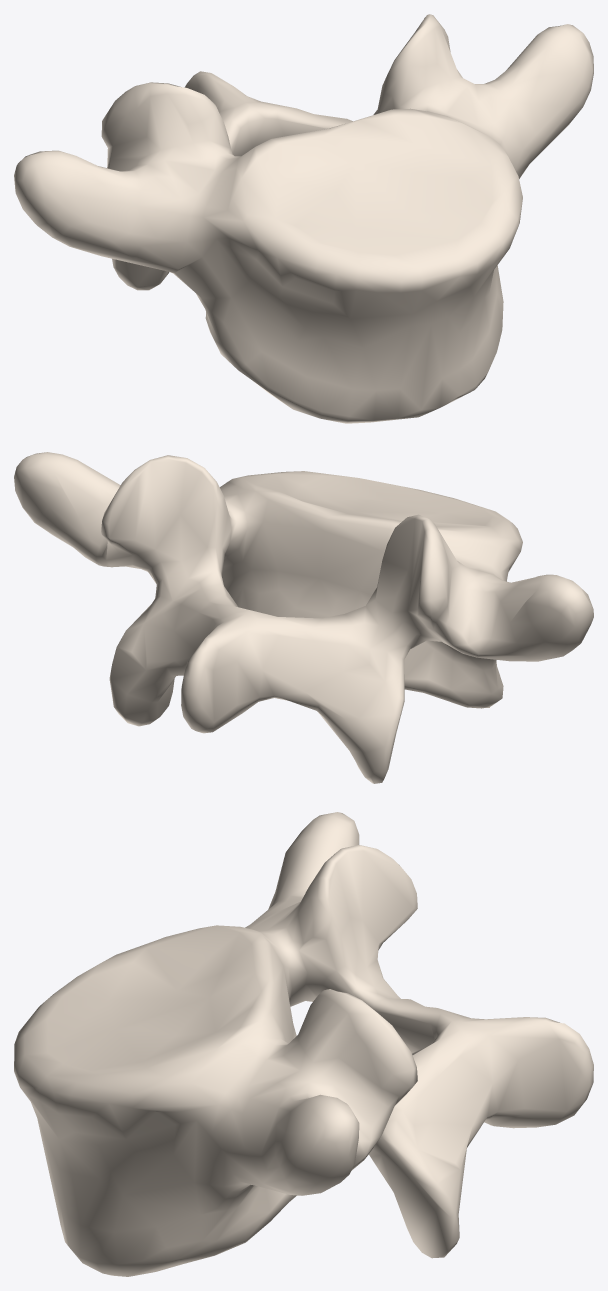
3 renders of one model, top to bottom at view 1: azimuth 30°, elevation 25°; view 2: azimuth 150°, elevation 25°; view 3: azimuth 270°, elevation 25°, orthographic. The views are drawn at different scales.
Visible parts, largest first — view 1: Lumbar vertebrae (L5); view 2: Lumbar vertebrae (L5); view 3: Lumbar vertebrae (L5).
Boxes of the visible parts, x1=… form: Lumbar vertebrae (L5): x1=14, y1=14, x2=593, y2=423; Lumbar vertebrae (L5): x1=14, y1=452, x2=593, y2=783; Lumbar vertebrae (L5): x1=14, y1=812, x2=593, y2=1276.
Size of the model in its own units: 0.1056 by 0.0492 by 0.0816.
